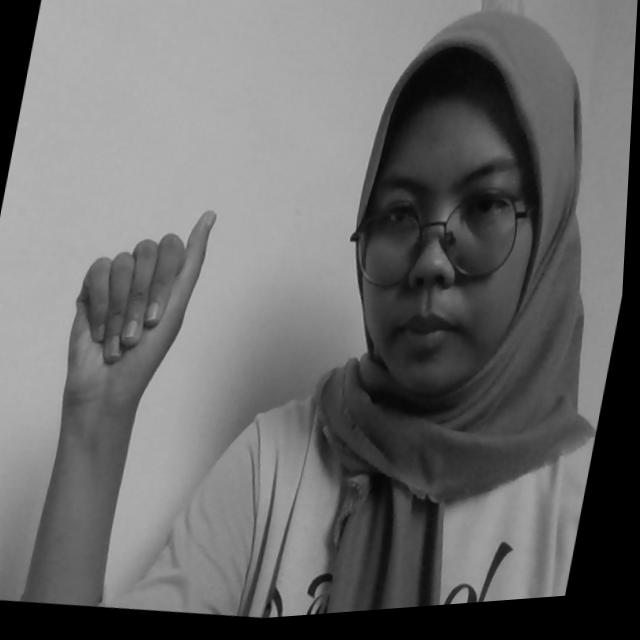A: (62, 198, 223, 408)
